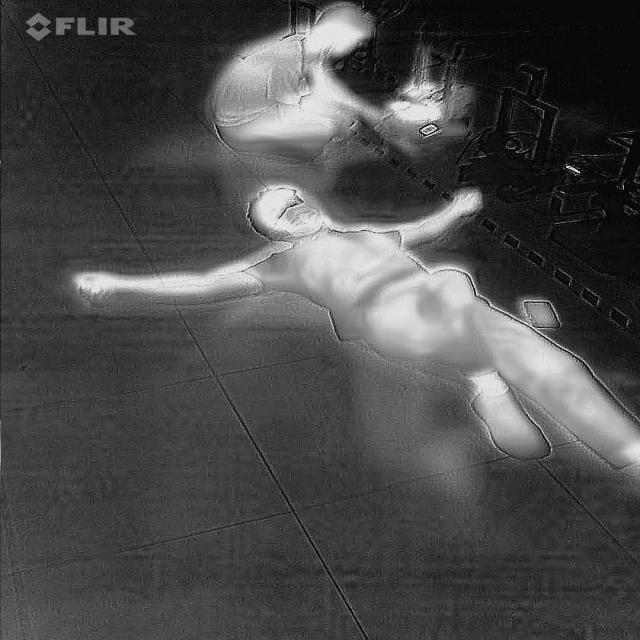Victim: (74, 176, 636, 476), (176, 1, 404, 167)
